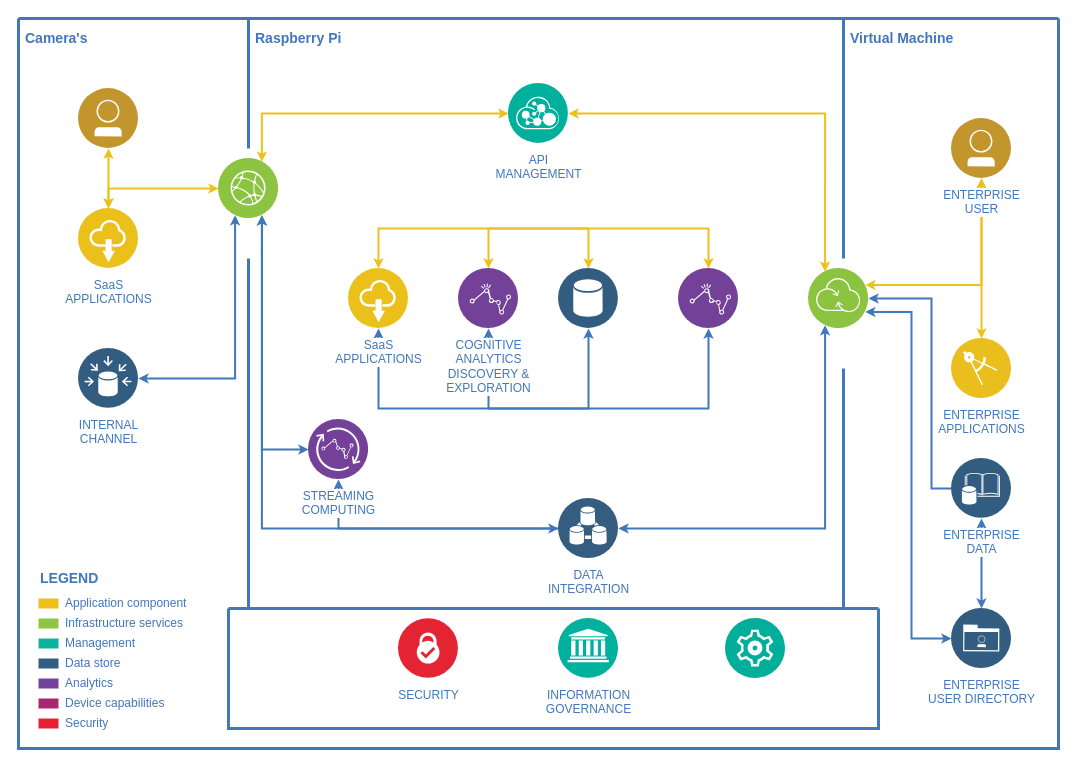
Some shapes in this 1077 by 767 pixel diagram are drawn without their labels. The centre of each missing label's shape, as x and y in pixels:
"CLOUD USER" goes at [108,118].
"COGNITIVE ACTIONABLE INSIGHTS" goes at [708,298].
"DATA REPOSITORY" goes at [588,298].
"EDGE SERVICES" goes at [248,188].
"SYSTEMS MANAGEMENT" goes at [755,648].
"TRANSFORMATION & CONNECTIVITY" goes at [838,298].
